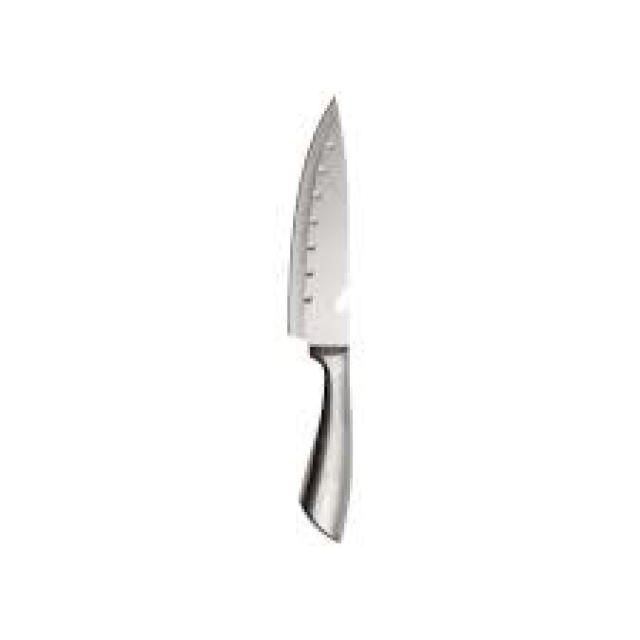Knife: (284, 91, 353, 540)
